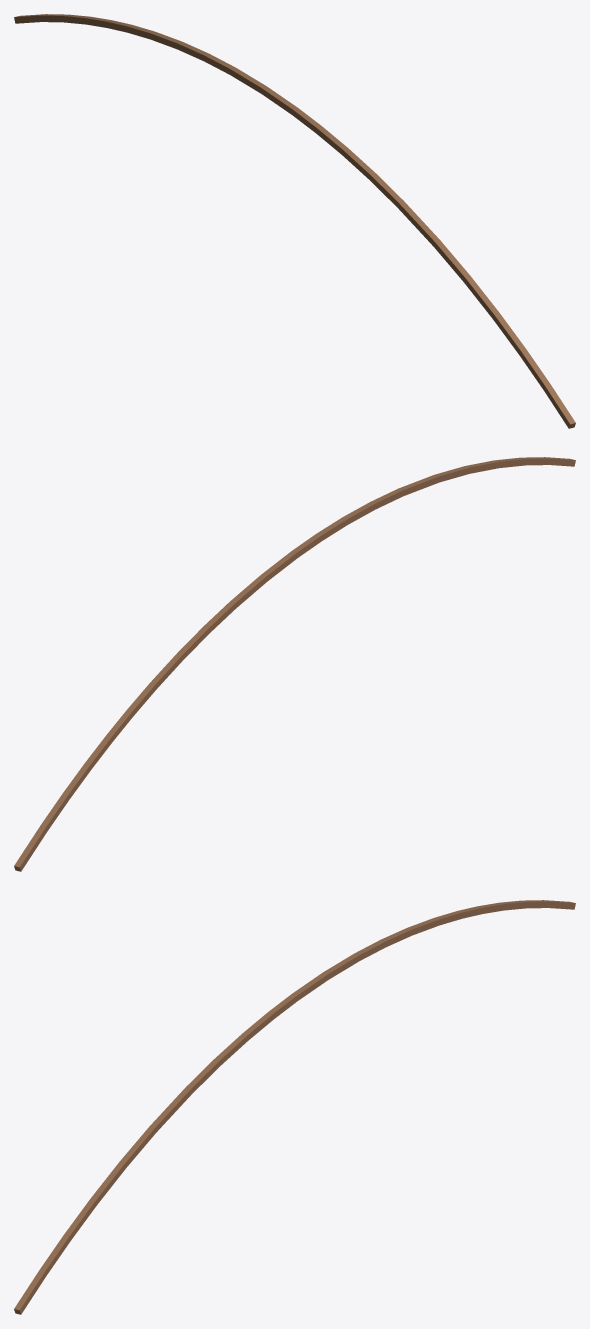
File: S_Metal_Stem_06.fbx
The picture shows the model from 3 angles, top to bottom: view 1: azimuth 30°, elevation 25°; view 2: azimuth 150°, elevation 25°; view 3: azimuth 330°, elevation 25°; orthographic projection.
Parts seen in each view (by area): view 1: S_Metal_Stem_06; view 2: S_Metal_Stem_06; view 3: S_Metal_Stem_06.
Part boxes in pixels (x1,y1,x2,y2): S_Metal_Stem_06: (14, 14, 575, 428); S_Metal_Stem_06: (14, 457, 575, 871); S_Metal_Stem_06: (14, 900, 575, 1314).
Bounding box in the file's own units: 3.39 × 65.89 × 567.
